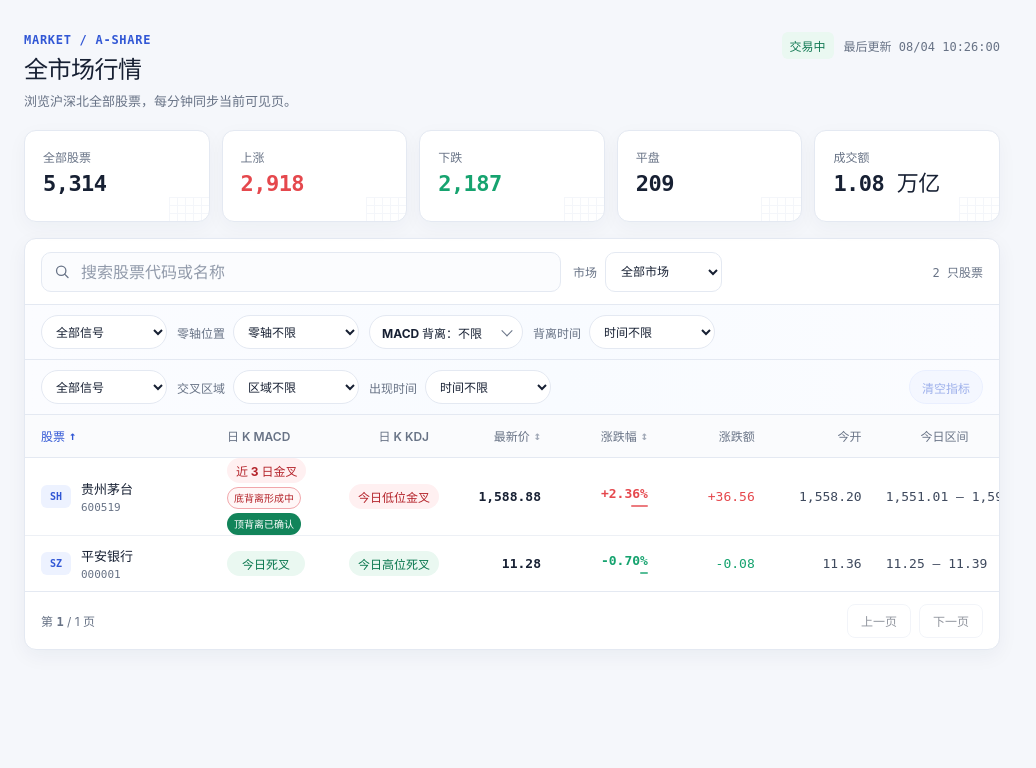
刷新当前页时保留已有股票
Expected: the row "贵州茅台" is shown, [25,457,999,535]
Click the button with aria-label "按最新价排序" at (517, 436), box [494,423,541,448]
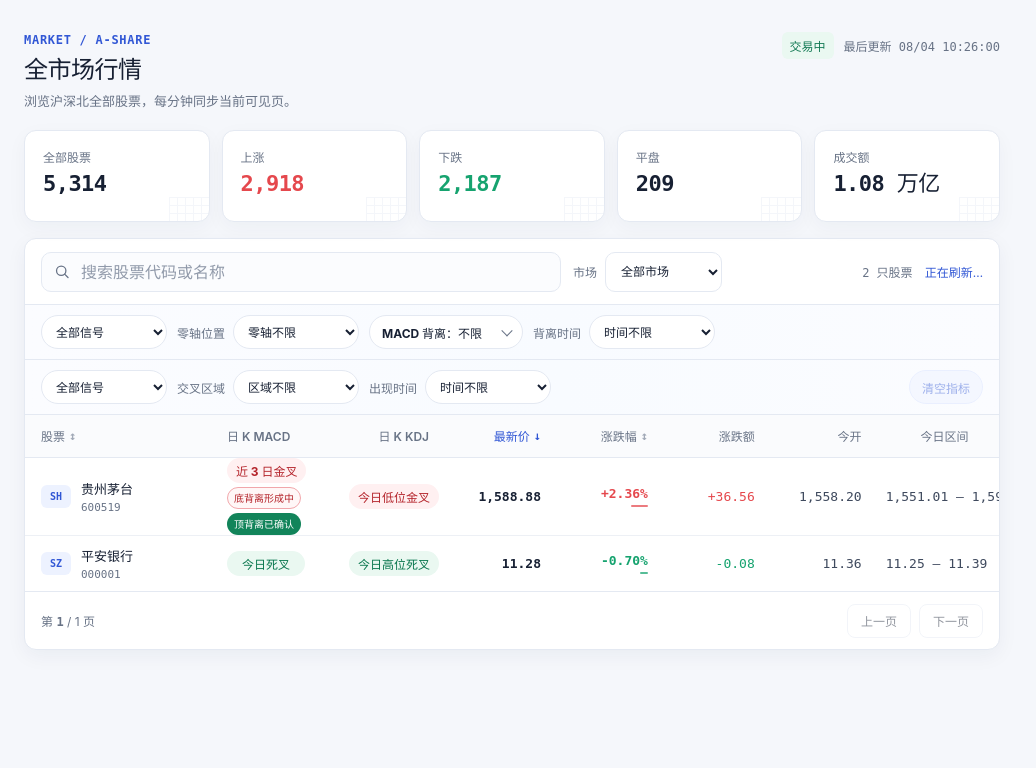
Expected: the row "贵州茅台" is shown, [25,457,999,535]
Result: the message shows "正在刷新" at [925,265,983,280]
